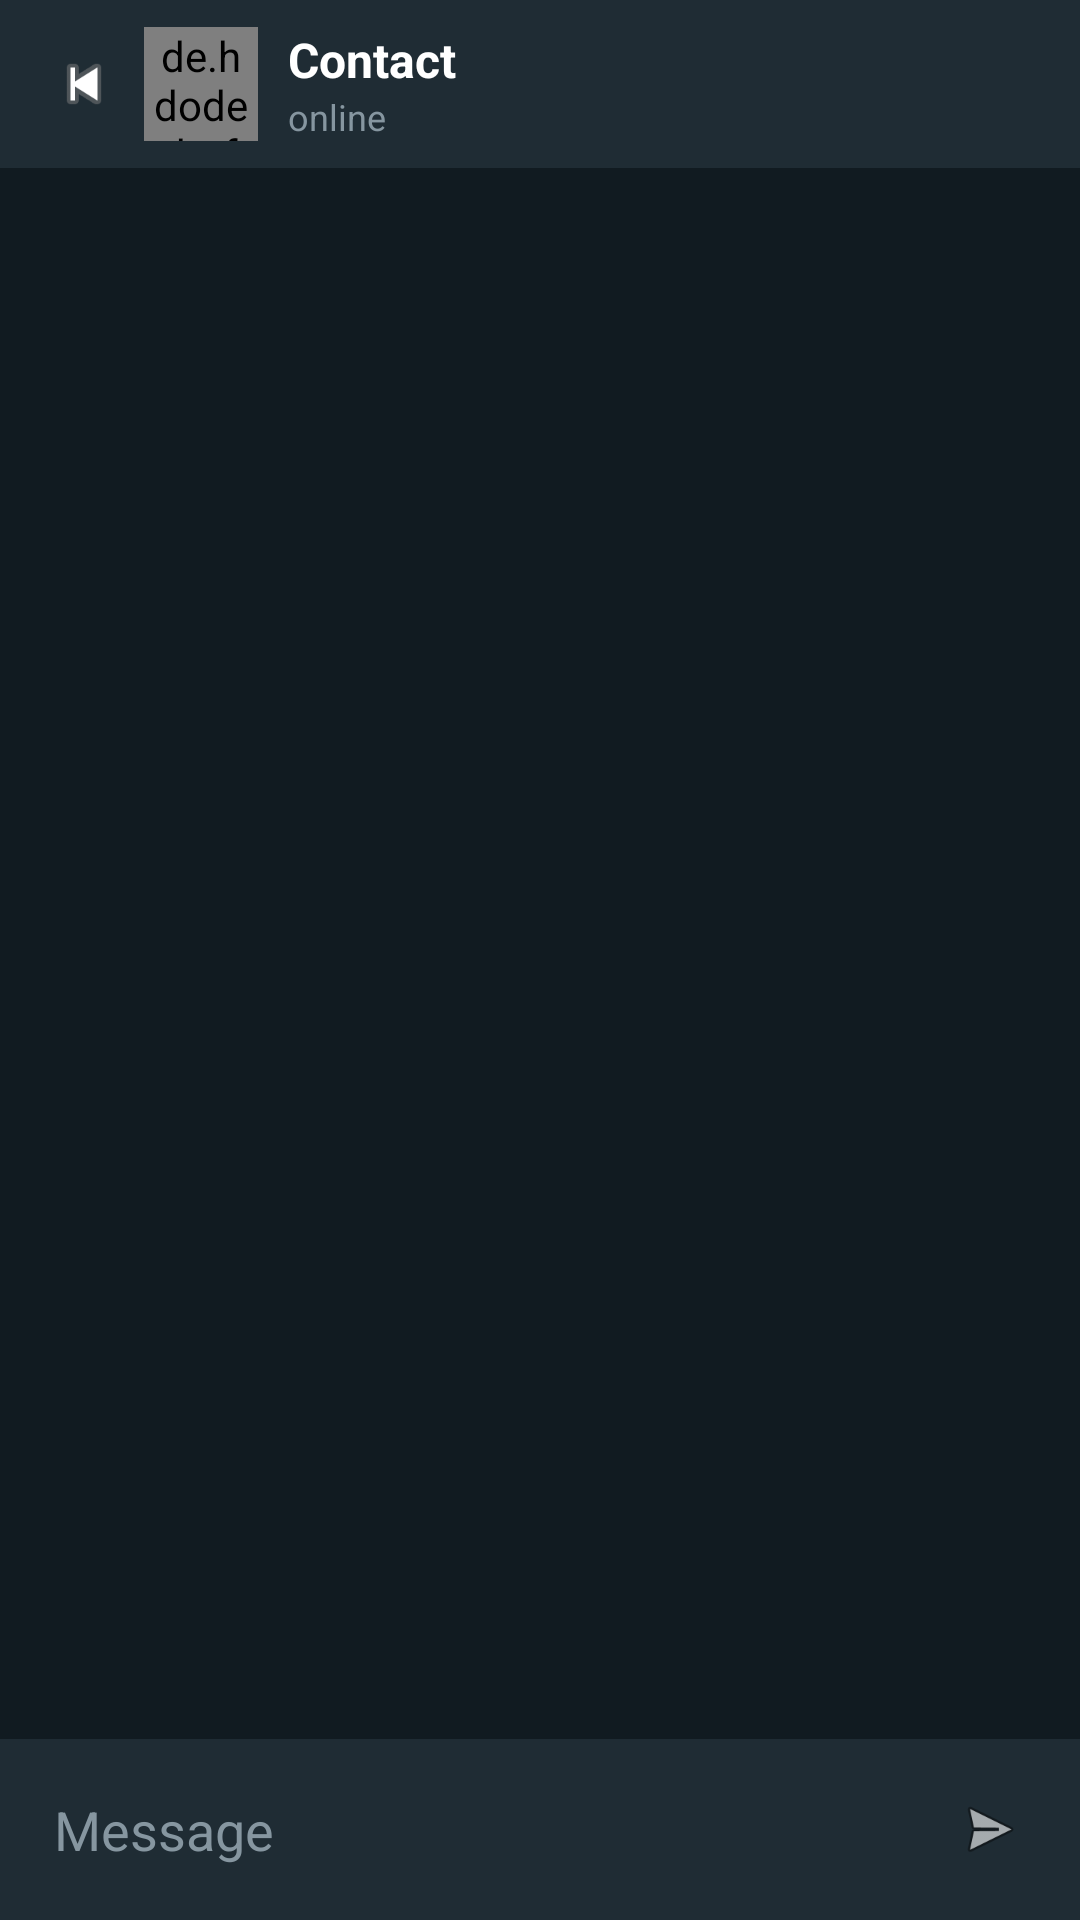

Icons on this 1080px×1920px Android screen, each with its box as (x1, y1, x2, y2):
previous: (67, 64, 101, 104)
send: (970, 1809, 1011, 1850)
